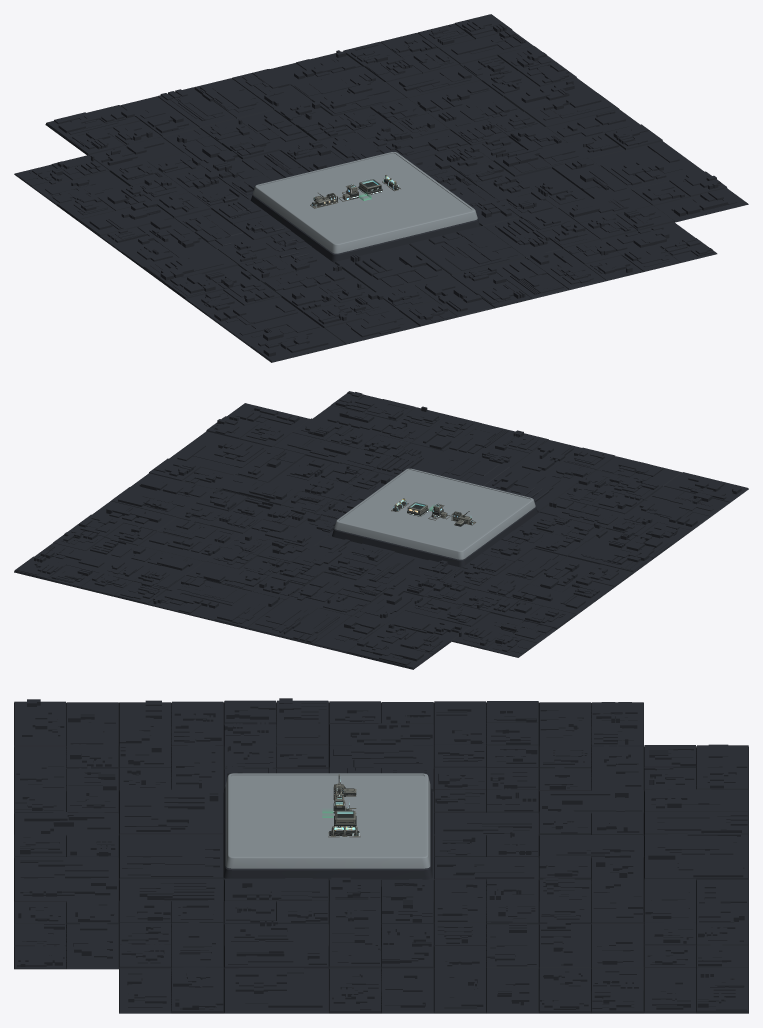
3 renders of one model, top to bottom at view 1: azimuth 30°, elevation 25°; view 2: azimuth 150°, elevation 25°; view 3: azimuth 270°, elevation 25°, orthographic. The views are drawn at different scales.
Parts seen in each view (by area): view 1: Plane001, BaseMesh, baseBase; view 2: Plane001, BaseMesh, baseBase; view 3: Plane001, BaseMesh, baseBase.
Part boxes in pixels (x1,y1,x2,y2): Plane001: [14, 14, 748, 362]; BaseMesh: [253, 152, 477, 253]; baseBase: [250, 194, 479, 262]; Plane001: [14, 391, 748, 669]; BaseMesh: [334, 468, 535, 559]; baseBase: [332, 506, 537, 567]; Plane001: [14, 698, 748, 1013]; BaseMesh: [225, 773, 430, 868]; baseBase: [223, 785, 432, 879].
Bounding box in the file's own units: 16 × 0.8694 × 16.
24 materials, 21 textured.
